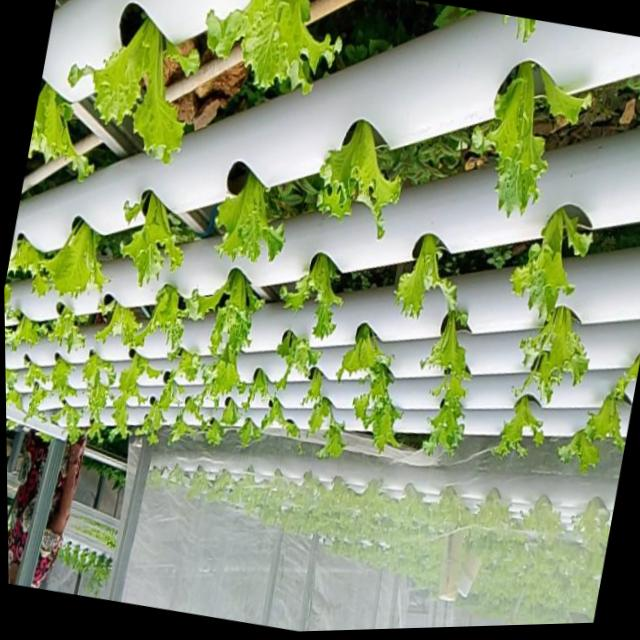Baby: (62, 17, 194, 163), (200, 0, 336, 91), (469, 59, 542, 215), (313, 117, 398, 236), (506, 205, 587, 317), (418, 299, 467, 452), (210, 159, 281, 258), (515, 304, 584, 401), (116, 187, 180, 282), (38, 217, 105, 298), (277, 250, 339, 336), (120, 281, 195, 351), (391, 231, 452, 315), (351, 362, 397, 449), (578, 375, 627, 448), (258, 327, 317, 386), (333, 320, 389, 377), (488, 393, 539, 455), (79, 348, 112, 433), (199, 341, 243, 402), (48, 401, 80, 440), (47, 354, 72, 398), (22, 380, 45, 416), (172, 347, 197, 380), (177, 392, 200, 422)
